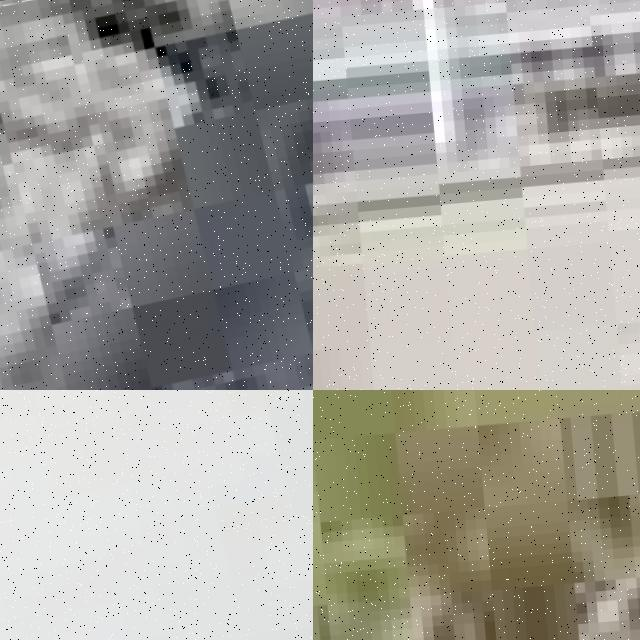drone: (0, 0, 313, 390), (0, 390, 313, 640)
